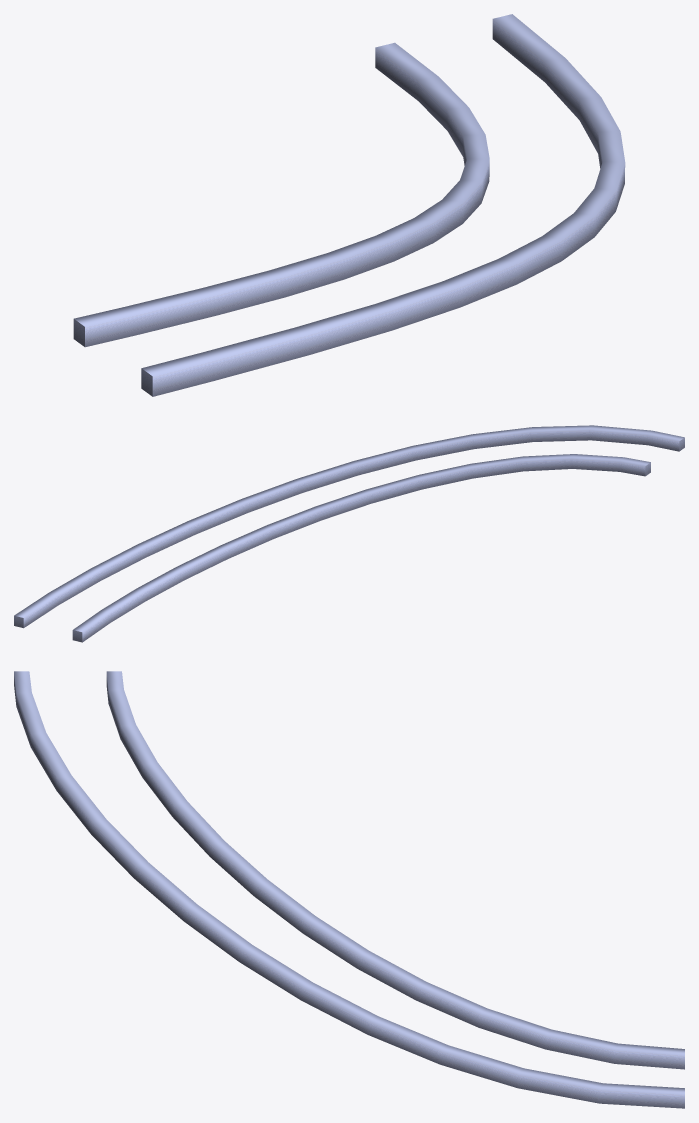
Rendered from railroad-rail-corner-large-ramp.glb.
3 renders of one model, top to bottom at view 1: azimuth 30°, elevation 25°; view 2: azimuth 150°, elevation 25°; view 3: azimuth 270°, elevation 25°, orthographic. The views are drawn at different scales.
Visible parts, largest first — view 1: railroad-rail-corner-large-ramp; view 2: railroad-rail-corner-large-ramp; view 3: railroad-rail-corner-large-ramp.
Part boxes in pixels (bbox=[...]): railroad-rail-corner-large-ramp: bbox=[73, 14, 625, 396]; railroad-rail-corner-large-ramp: bbox=[14, 425, 684, 642]; railroad-rail-corner-large-ramp: bbox=[14, 671, 684, 1108].
Size of the model in its own units: 4.35 by 1.1 by 4.35.
Materials: 1 (1 with a texture image).
